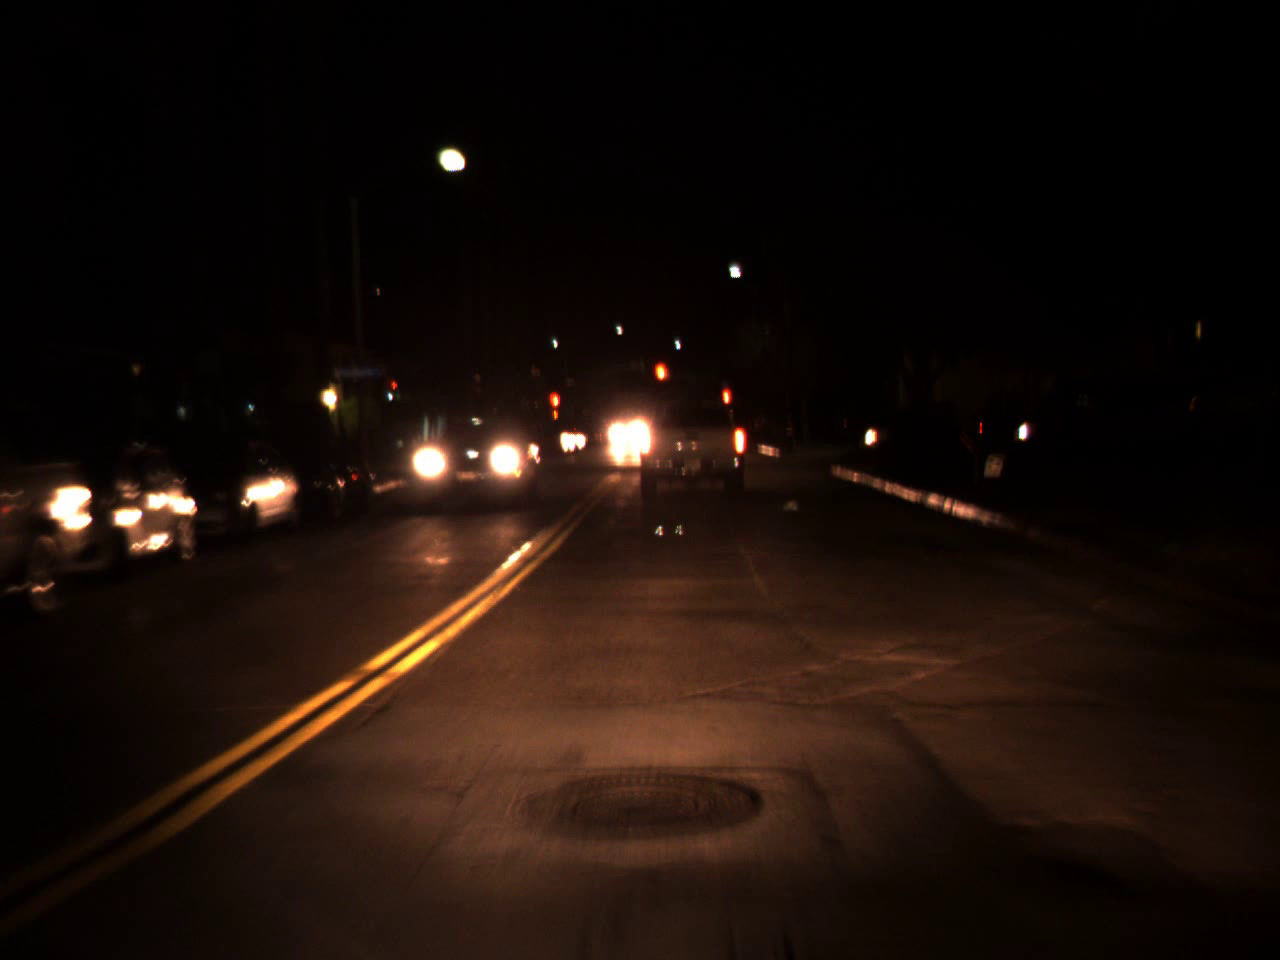stop: (653, 362, 668, 399), (547, 389, 562, 426), (721, 386, 731, 423)
